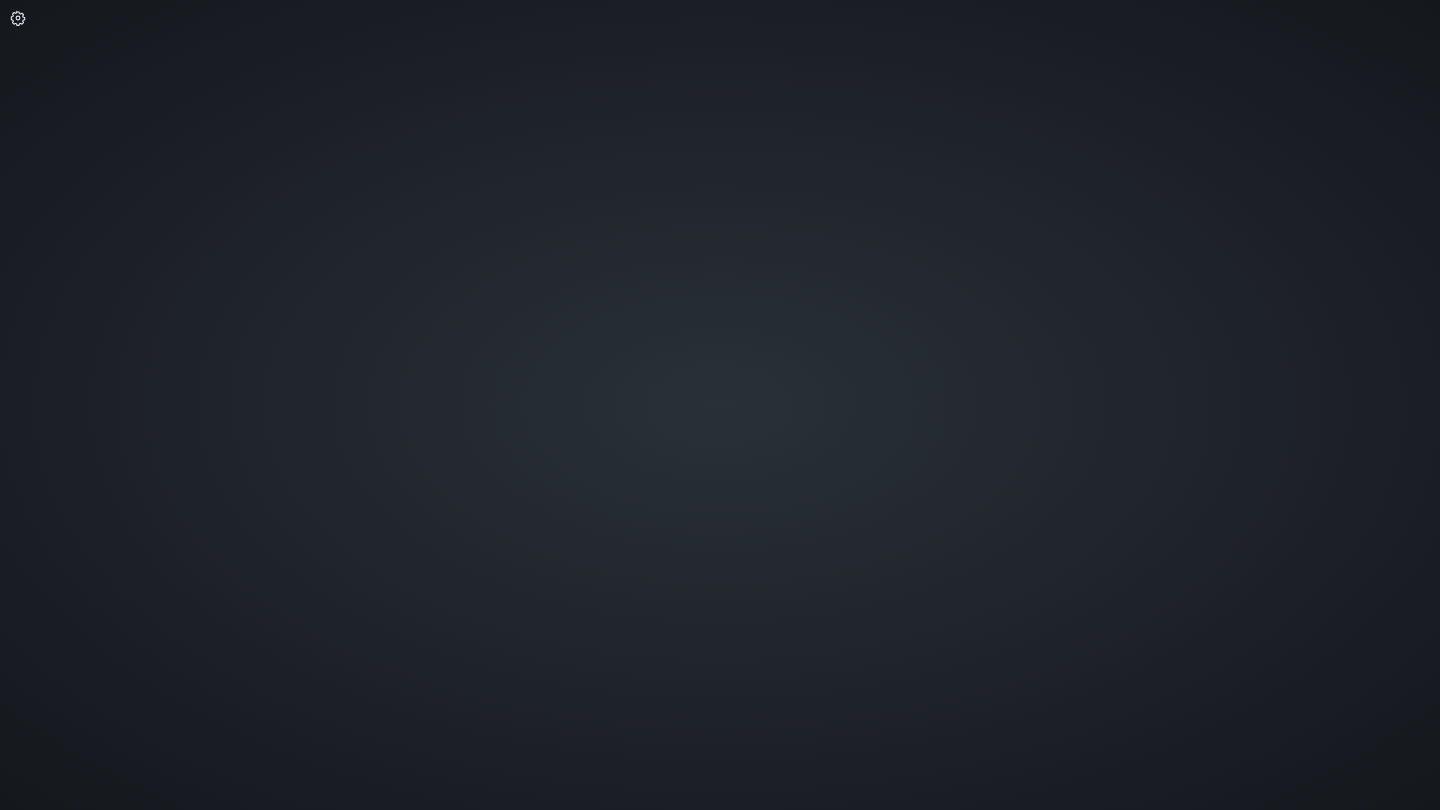
Test: SettingsMenu language selector › switches locale between English and Türkçe, updates html[lang], and persists to localStorage
Click the button named "Settings": click(18, 18) x1=0 y1=0 x2=36 y2=36
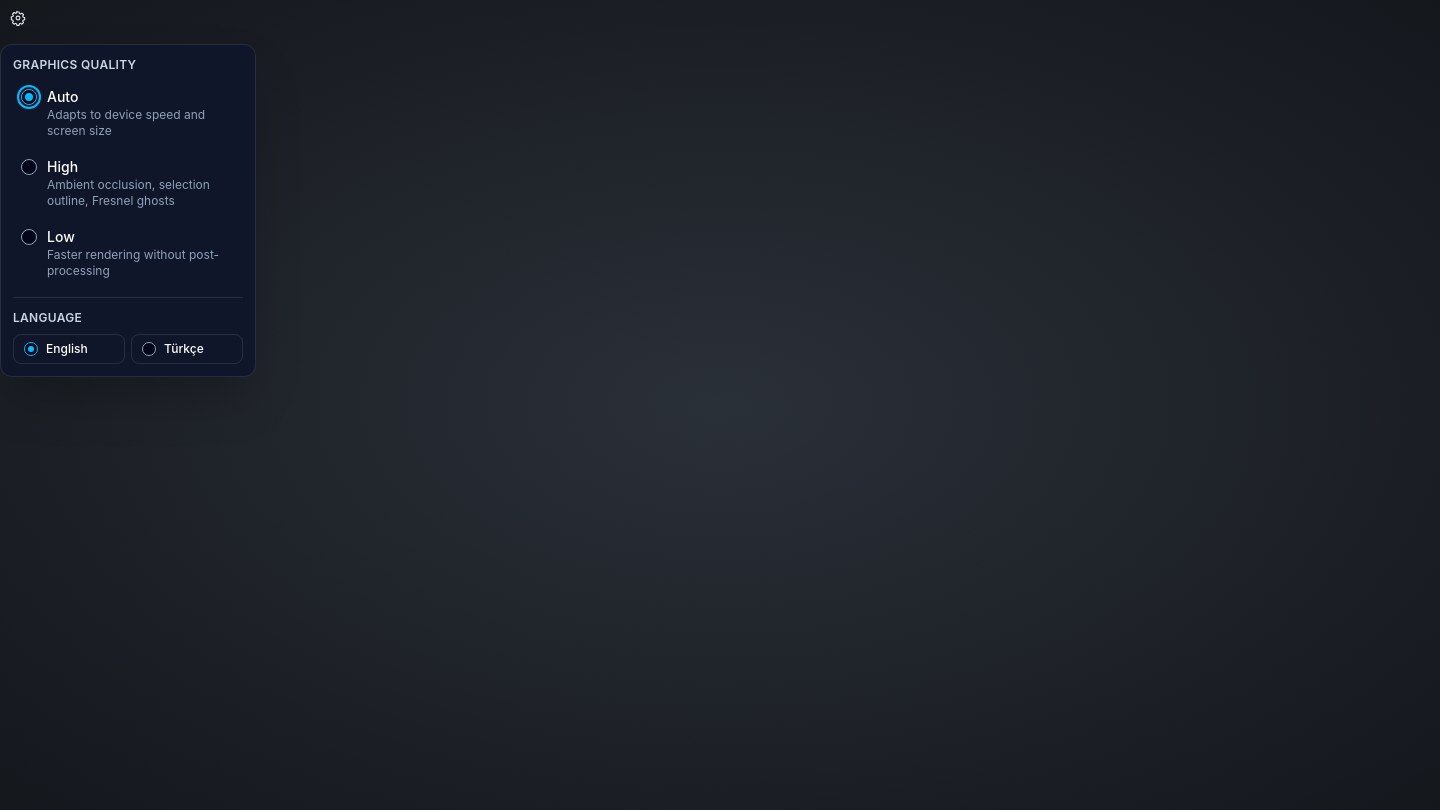
Check: the element named "Language" is shown, box x1=13 y1=334 x2=243 y2=364
Click the radio button named "Türkçe": click(149, 349) x1=142 y1=342 x2=156 y2=356
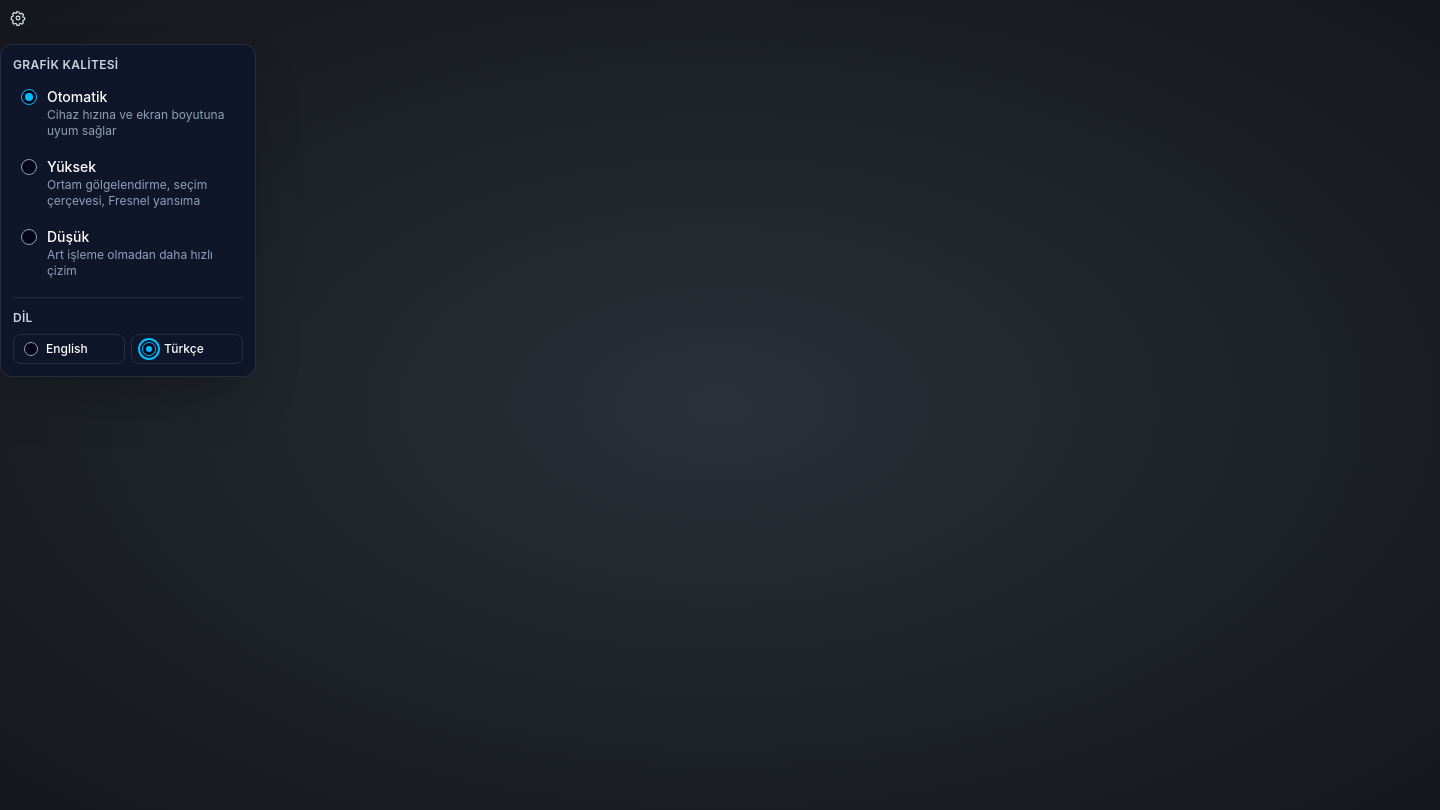
Check: the text "Dil" is shown, box x1=13 y1=310 x2=33 y2=325
Check: the text "Grafik kalitesi" is shown, box x1=13 y1=57 x2=118 y2=72
